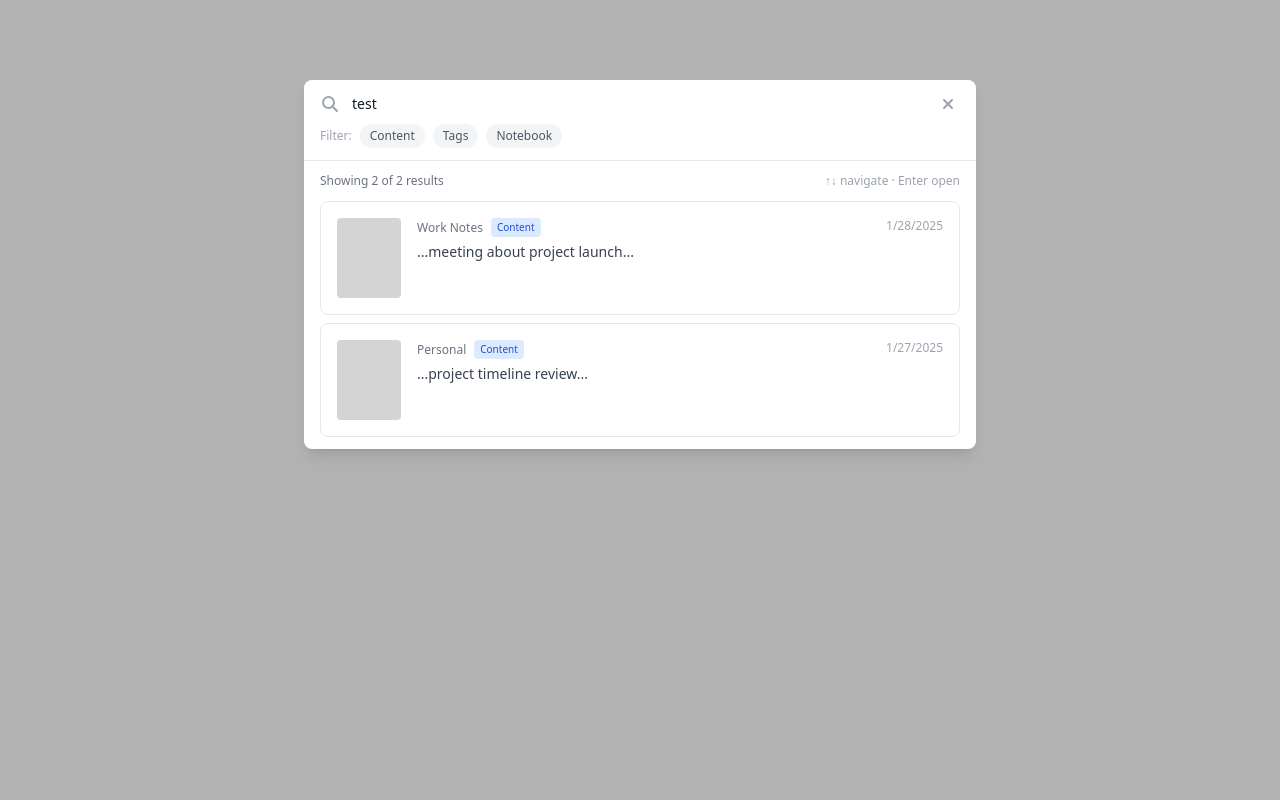
Scenario: SearchView › clears input when clear button is clicked
The width and height of the screenshot is (1280, 800).
Click the button with test id "search-clear" at (948, 104), box top-left (936, 92), bottom-right (960, 116)
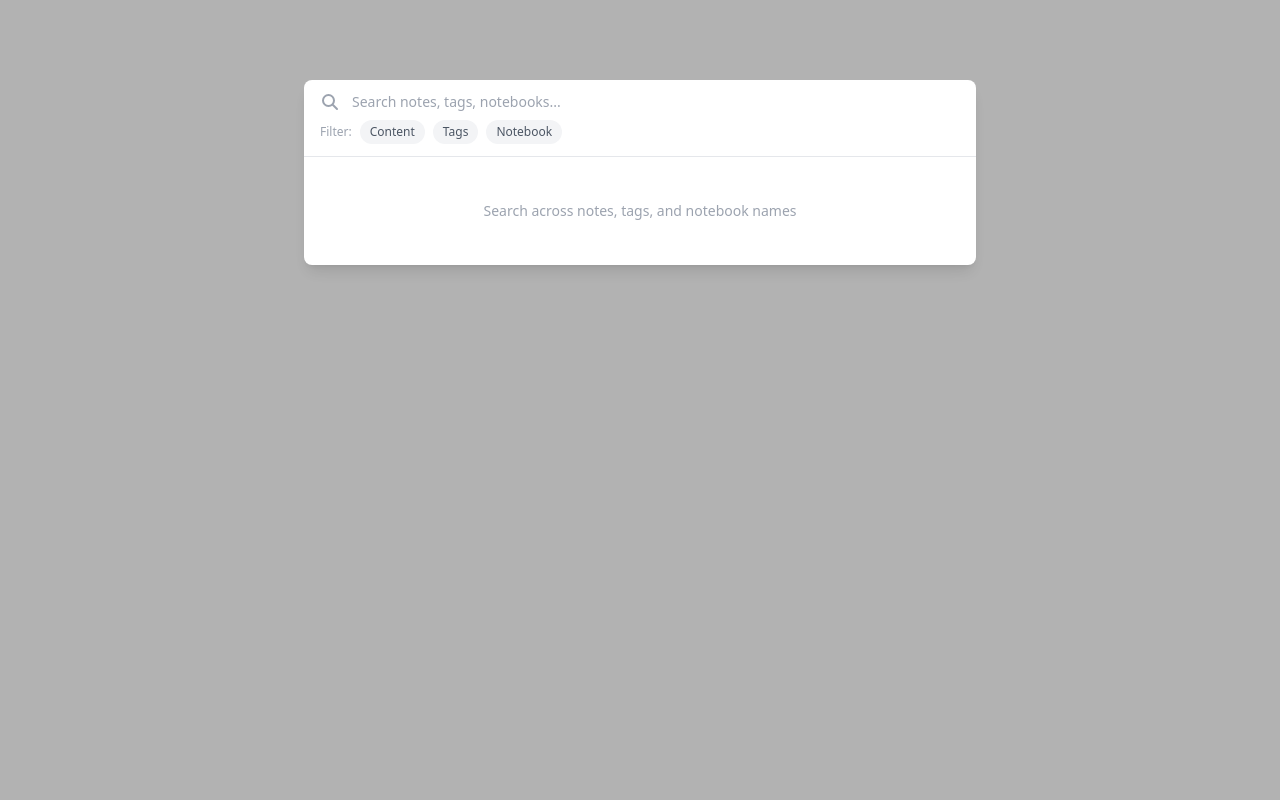
Expected: the field with test id "search-input" is empty, top-left (352, 92), bottom-right (960, 112)
